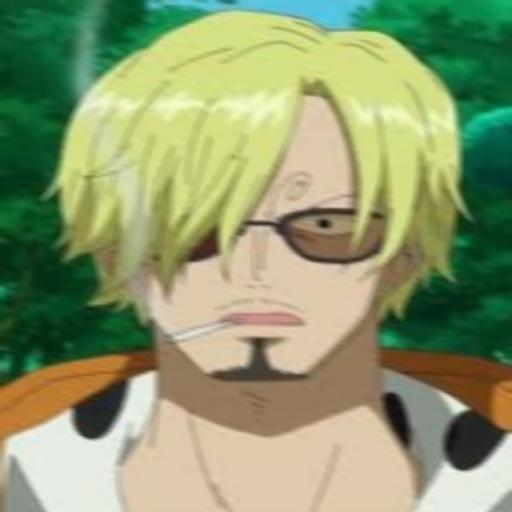sanji: (9, 2, 512, 512)
